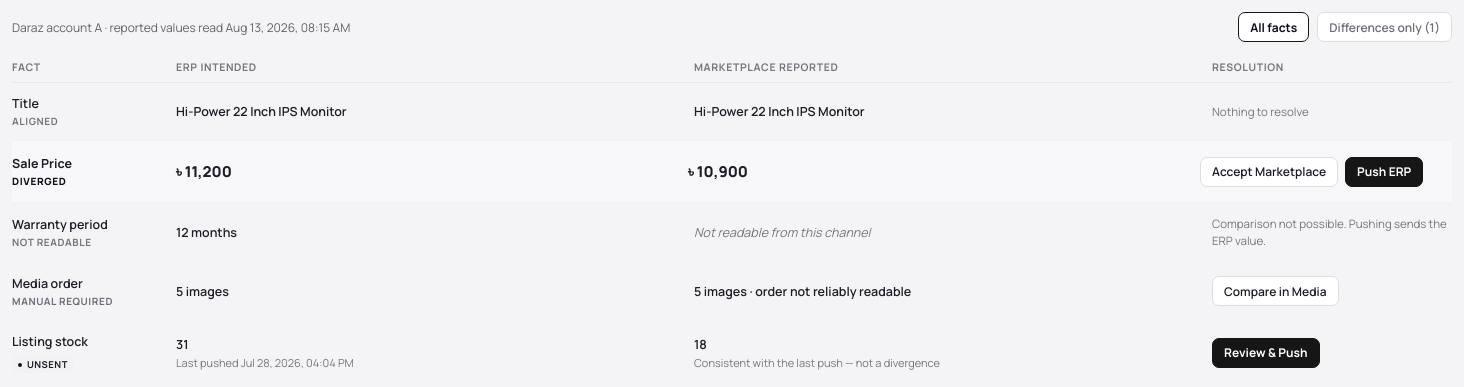
Test: Frame 07 — Intended vs reported › filters to the differences and states how many there are
Click the button with test id "comparison-filter-diff" at (1385, 27), box [1317, 12, 1452, 42]
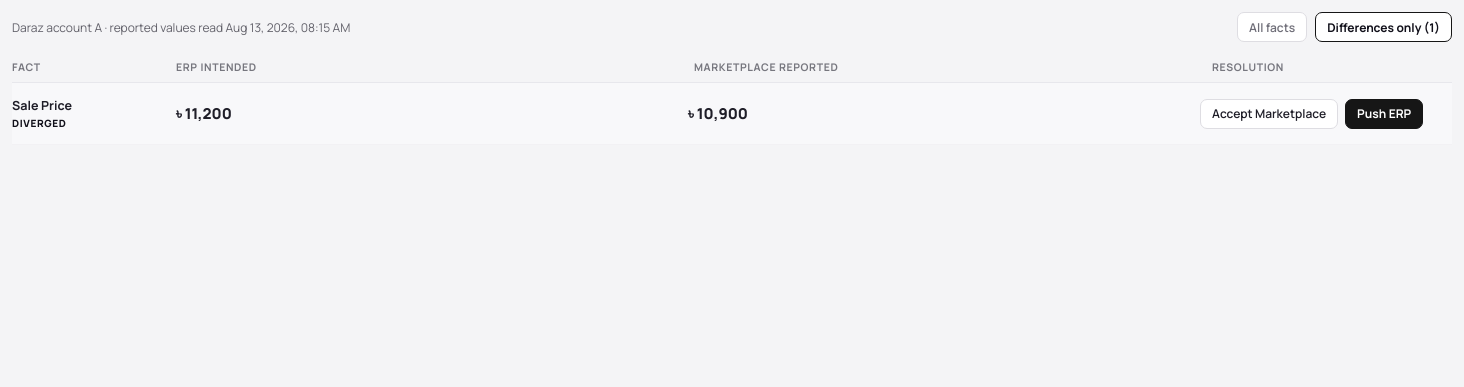
Expected: the element with test id "comparison-row-title" is gone
Expected: the element with test id "comparison-row-media" is gone
